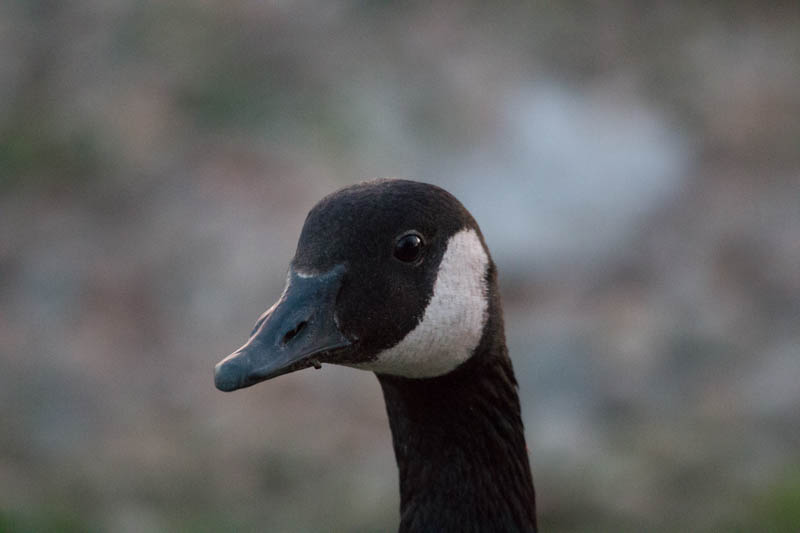goose-head: (212, 176, 505, 394)
